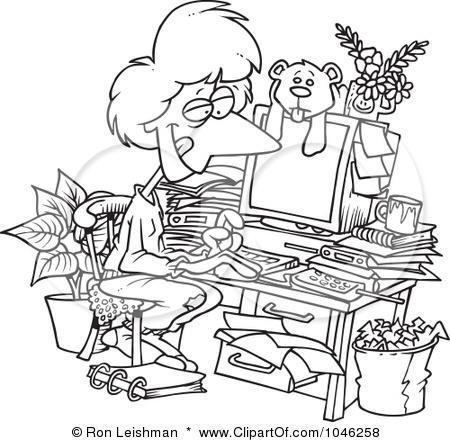chair: (67, 192, 181, 349)
person: (80, 3, 290, 370)
pottedplant: (8, 168, 110, 359)
tvmonitor: (228, 95, 394, 234)
